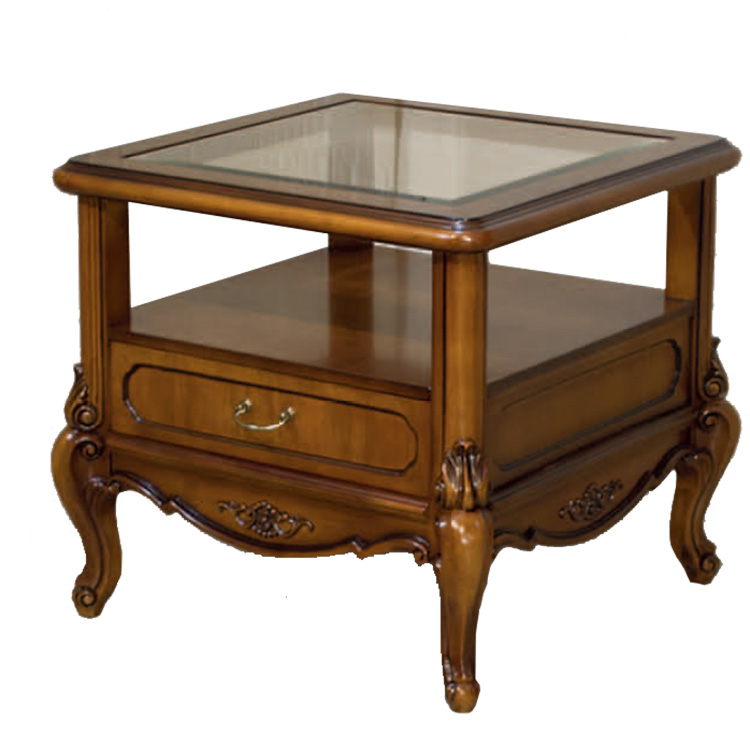Carving Table: (53, 69, 748, 700)
